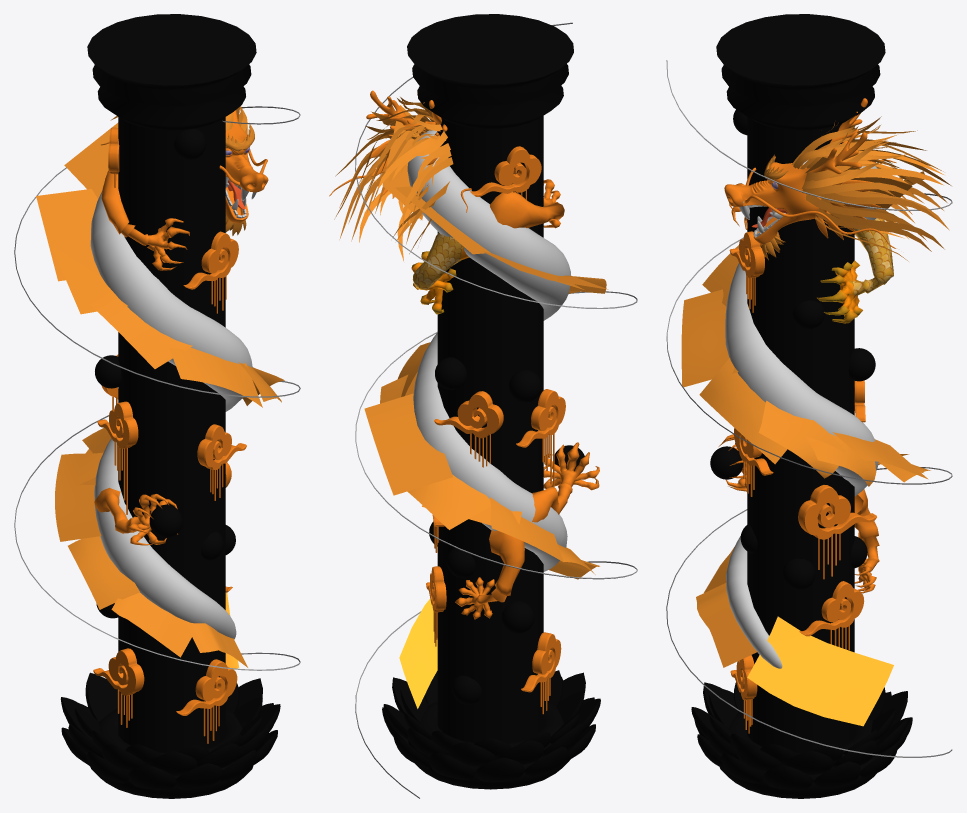
File: Dragon.FBX
The picture shows the model from 3 angles, left to right: view 1: azimuth 30°, elevation 25°; view 2: azimuth 150°, elevation 25°; view 3: azimuth 270°, elevation 25°; orthographic projection.
Visible parts, largest first — view 1: Cylinder001, Cone001, Loft001, Plane123, Plane137, Plane124, Plane129, Plane125, Plane130, headusOBJexport002s, Helix002, headusOBJexport002 (+24 smaller); view 2: Cylinder001, Cone001, Loft001, Plane120, Plane138, headusOBJexport003, Plane141, Plane128, headusOBJexport002, headusOBJexport, Helix002, headusOBJexport002s (+24 smaller); view 3: Cylinder001, Cone001, Loft001, Plane120, Plane141, Group1, Plane125, Plane126, headusOBJexport, Plane140, Helix002, Plane131 (+28 smaller).
Part boxes in pixels (box(x1,y1,x2,y2)): Cylinder001: box(118, 117, 225, 752); Cone001: box(87, 14, 256, 130); Loft001: box(90, 191, 252, 639); Plane123: box(36, 189, 100, 281); Plane137: box(55, 452, 103, 541); Plane124: box(82, 283, 192, 368); Plane129: box(68, 536, 139, 609); Plane125: box(169, 347, 262, 407); Plane130: box(111, 592, 191, 657); headusOBJexport002s: box(101, 170, 189, 270); Helix002: box(14, 106, 300, 670); headusOBJexport002: box(94, 487, 177, 545); Cylinder001: box(437, 116, 543, 742); Cone001: box(407, 14, 573, 128); Loft001: box(407, 130, 570, 571); Plane120: box(334, 91, 453, 261); Plane138: box(364, 393, 452, 495); headusOBJexport003: box(455, 530, 524, 619); Plane141: box(399, 599, 437, 708); Plane128: box(407, 474, 490, 529); headusOBJexport002: box(532, 442, 599, 522); headusOBJexport: box(411, 232, 469, 314); Helix002: box(355, 22, 637, 798); headusOBJexport002s: box(490, 179, 564, 228); Cylinder001: box(747, 117, 854, 752); Cone001: box(716, 14, 885, 130); Loft001: box(725, 160, 878, 668); Plane120: box(791, 116, 951, 261); Plane141: box(747, 616, 893, 726); Group1: box(724, 98, 867, 244); Plane125: box(681, 289, 738, 387); Plane126: box(699, 358, 787, 464); headusOBJexport: box(817, 218, 893, 323); Plane140: box(758, 400, 846, 478); Helix002: box(666, 60, 952, 757); Plane131: box(696, 583, 757, 667).
Bounding box in the file's own units: 180 × 494 × 178.
